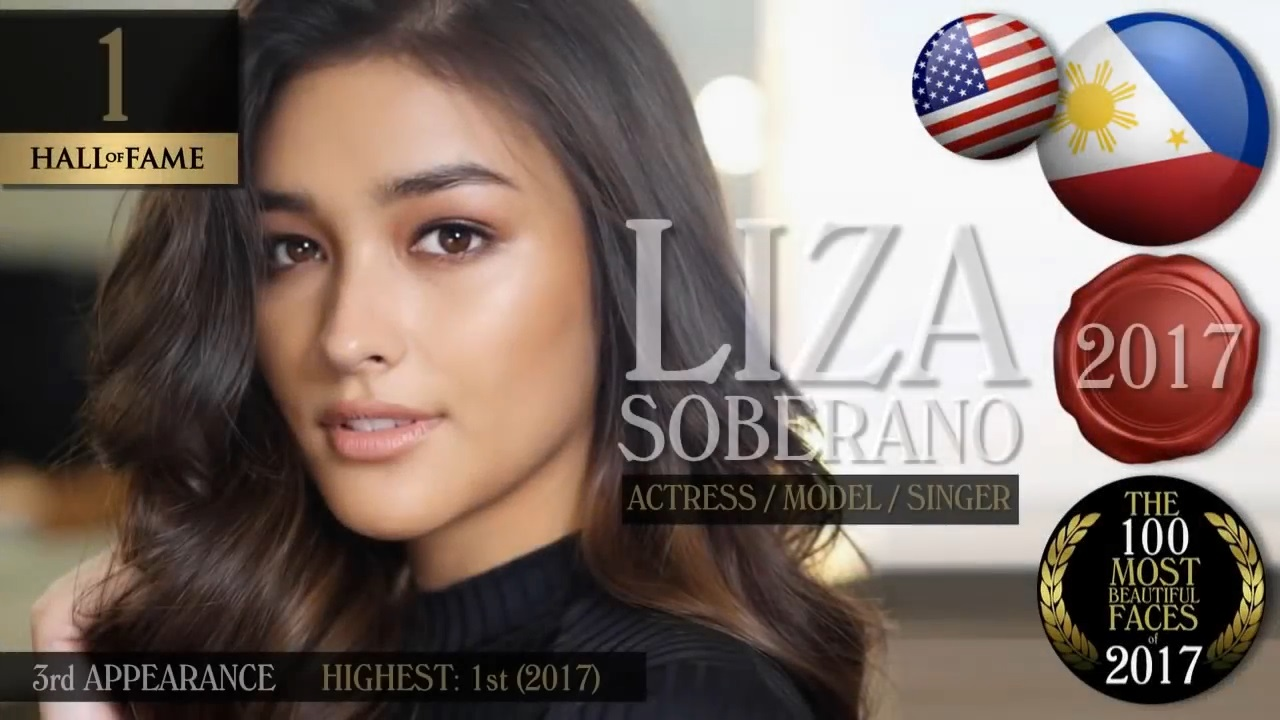no_mask: (247, 16, 622, 604)
